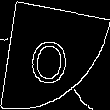O_N: (32, 25, 78, 85)
